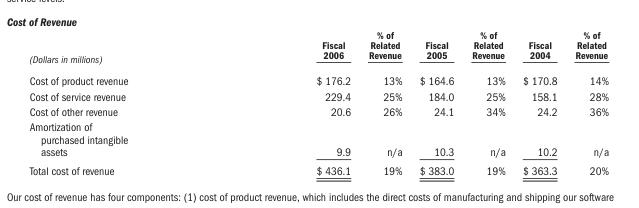table: (28, 28, 608, 176)
table column: (28, 28, 221, 176), (221, 28, 359, 176), (410, 28, 462, 176), (513, 28, 565, 176), (359, 28, 410, 176), (462, 28, 513, 176), (565, 28, 608, 176)
table column header: (28, 28, 608, 69)
table row: (28, 118, 608, 160), (28, 28, 608, 69), (28, 69, 608, 88), (28, 160, 608, 176), (28, 88, 608, 103), (28, 103, 608, 118)
